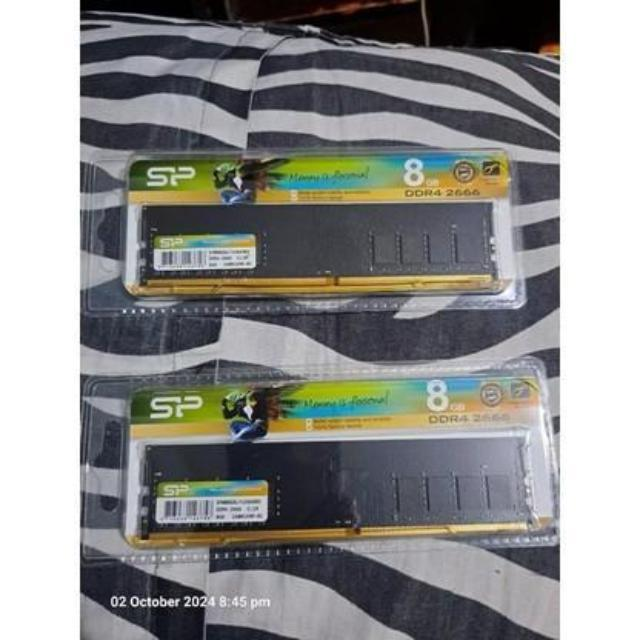RAM: (141, 442, 530, 544), (141, 203, 496, 300)
